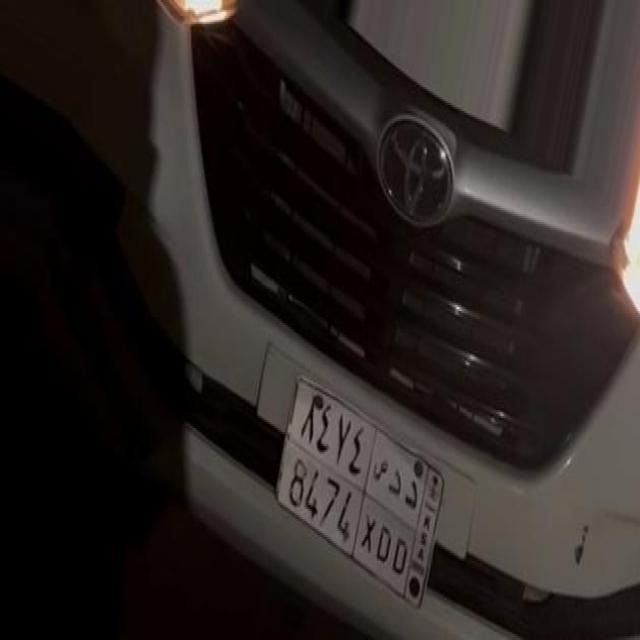Car-plate: (264, 348, 458, 638)
